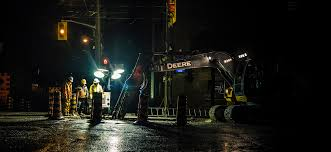safe person: (63, 74, 75, 114), (78, 74, 88, 107), (90, 74, 105, 92)
